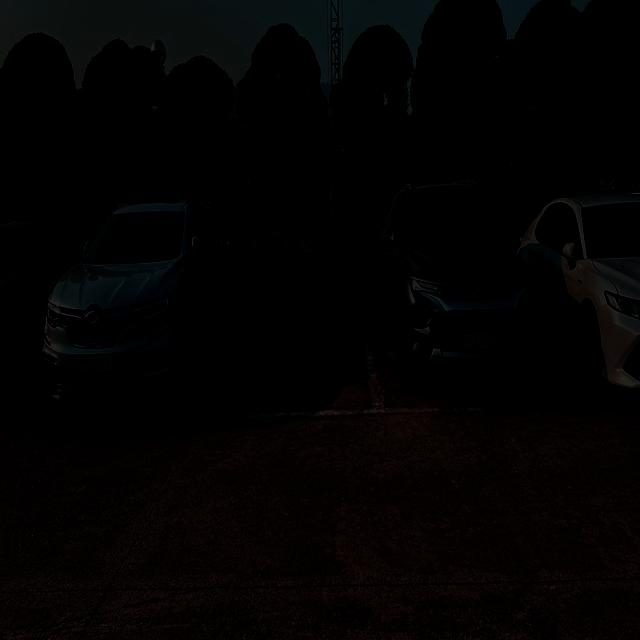empty: (181, 317, 389, 427)
occupied: (42, 199, 238, 411), (376, 186, 540, 397)
